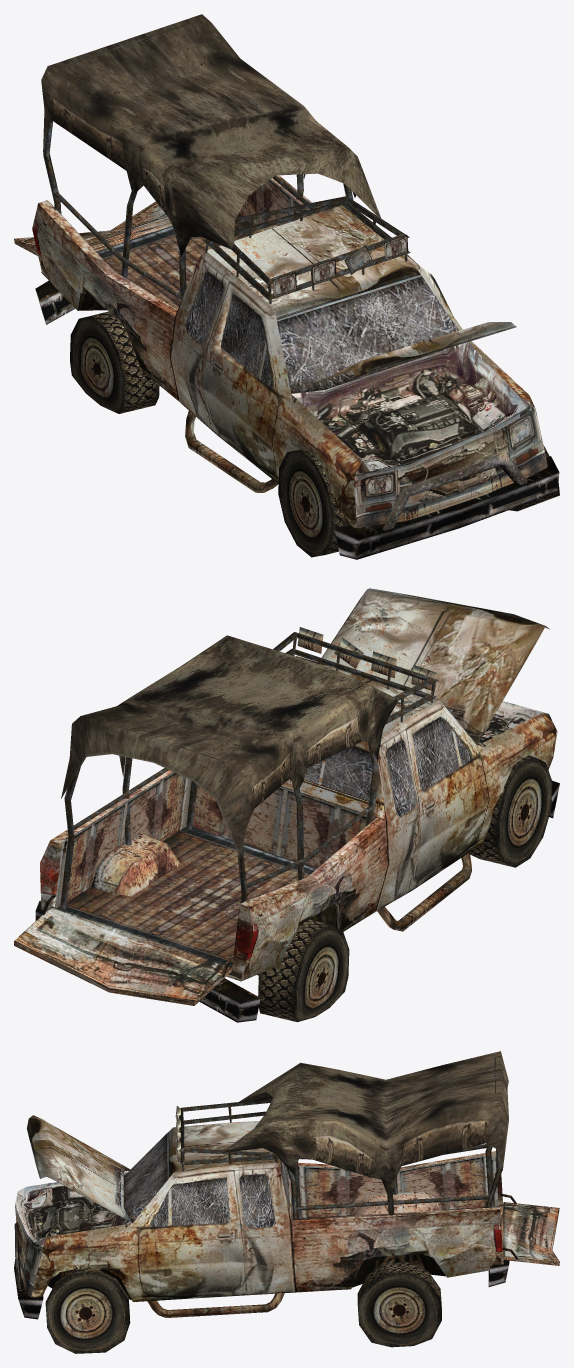
File: Etek6x.glb
The picture shows the model from 3 angles, top to bottom: view 1: azimuth 30°, elevation 25°; view 2: azimuth 150°, elevation 25°; view 3: azimuth 270°, elevation 25°; orthographic projection. The views are drawn at different scales.
Parts seen in each view (by area): view 1: _Etek6x; view 2: _Etek6x; view 3: _Etek6x.
Part boxes in pixels (x1=…): _Etek6x: x1=14, y1=14, x2=559, y2=559; _Etek6x: x1=14, y1=588, x2=559, y2=1022; _Etek6x: x1=14, y1=1051, x2=559, y2=1353.
Bounding box in the file's own units: 2.74 × 3.22 × 6.87.
4 materials, 4 textured.
